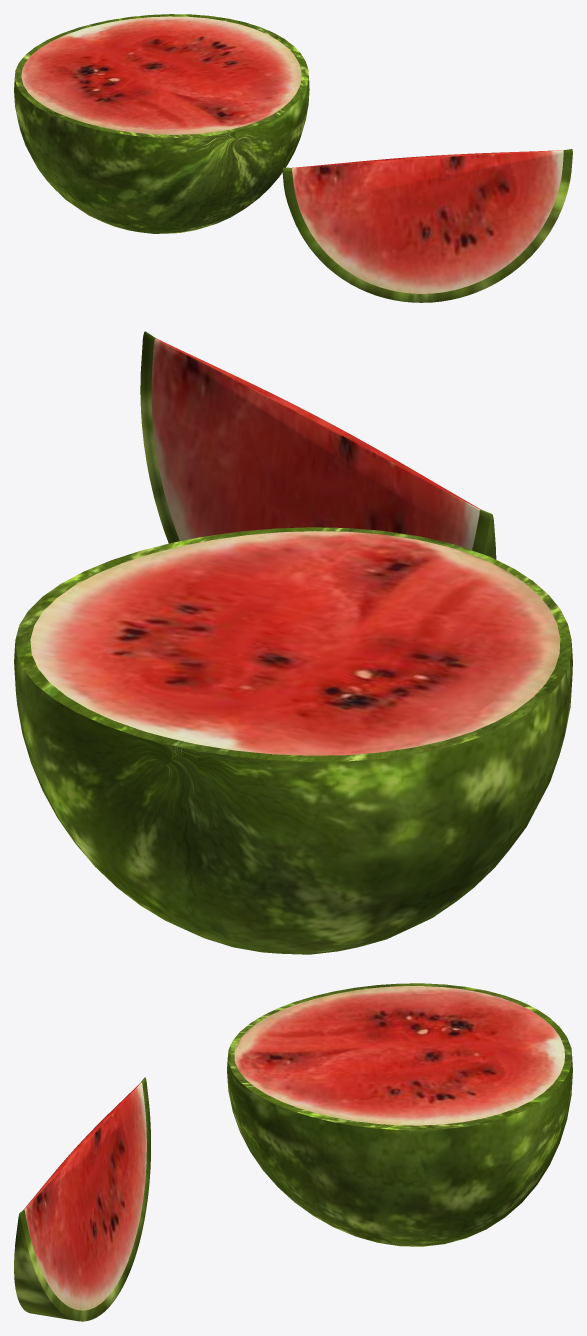
Rendered from Tarvuz.fbx.
3 renders of one model, top to bottom at view 1: azimuth 30°, elevation 25°; view 2: azimuth 150°, elevation 25°; view 3: azimuth 270°, elevation 25°, orthographic. The views are drawn at different scales.
Visible parts, largest first — view 1: Watermelon Half, Circle.001, Circle.002; view 2: Watermelon Half, Circle.001, Circle.002; view 3: Watermelon Half, Circle.001, Circle.002.
Boxes of the visible parts, box(x1,y1,x2,y2) form: Watermelon Half: box(14, 14, 309, 233); Circle.001: box(292, 150, 563, 293); Circle.002: box(282, 149, 572, 302); Watermelon Half: box(14, 527, 572, 954); Circle.001: box(151, 338, 480, 549); Circle.002: box(140, 331, 496, 559); Watermelon Half: box(227, 983, 572, 1246); Circle.001: box(23, 1082, 146, 1310); Circle.002: box(14, 1077, 150, 1321).
Size of the model in its own units: 3644 by 1381 by 4008.
Materials: 5 (5 with a texture image).
